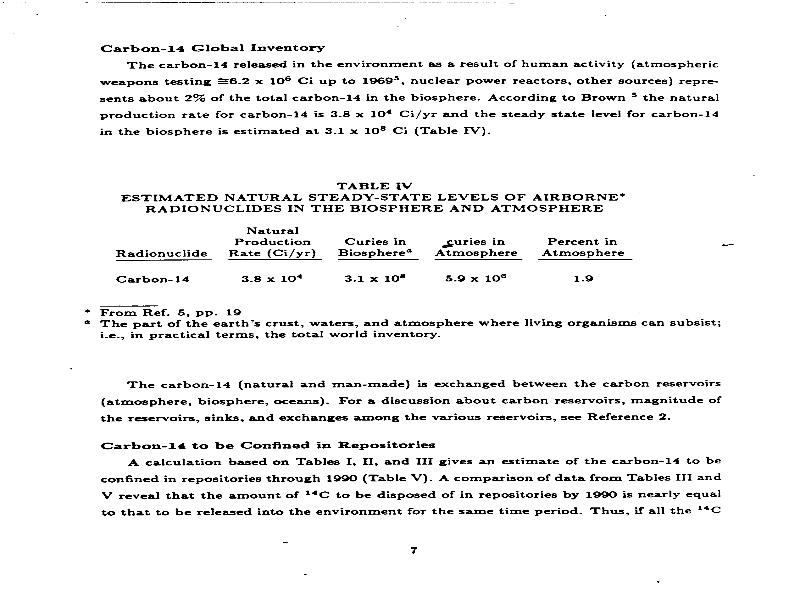table: (82, 219, 729, 364)
